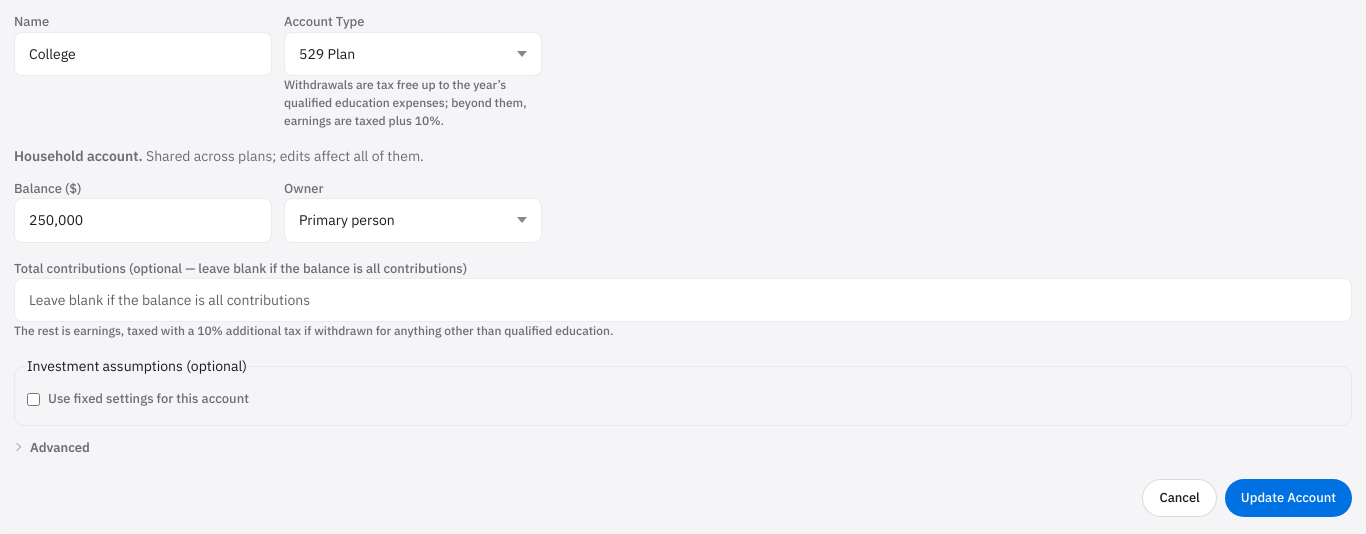
Scenario: states the tax assumption only for 529 and other accounts
Select "Other" in the dropdown labelled "Account Type": (413, 54) top-left (284, 32), bottom-right (542, 76)
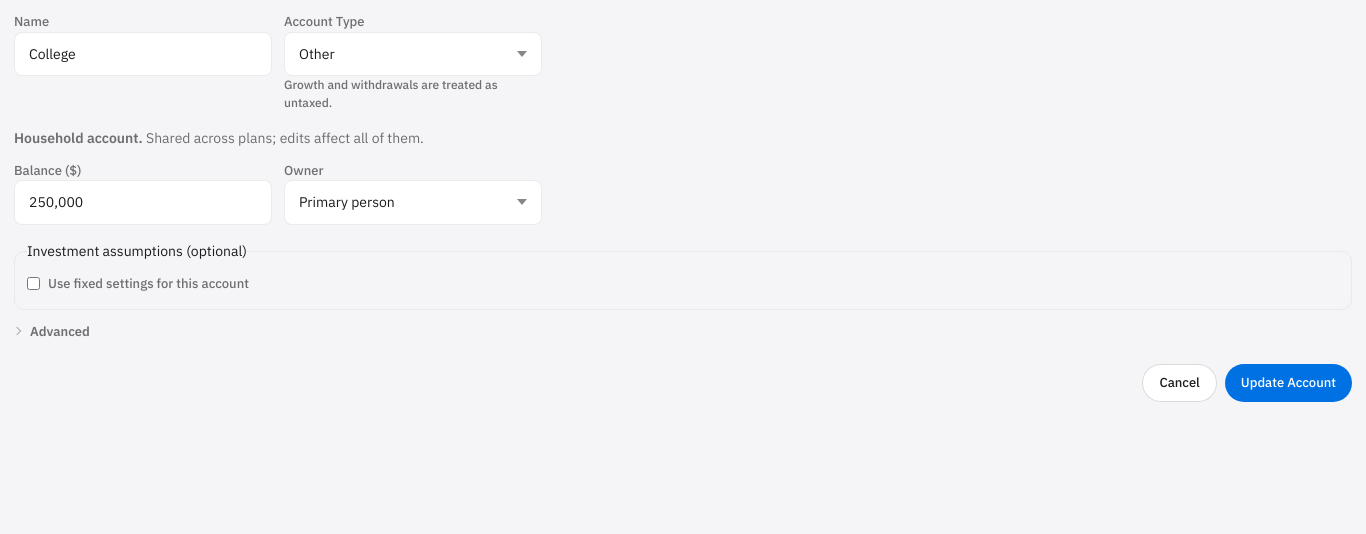
Now the text "Growth and withdrawals are treated as untaxed." is shown, box top-left (284, 77), bottom-right (498, 110)
Select "HSA" in the dropdown labelled "Account Type Growth and withdrawals are treated as untaxed.": (413, 54) top-left (284, 32), bottom-right (542, 76)
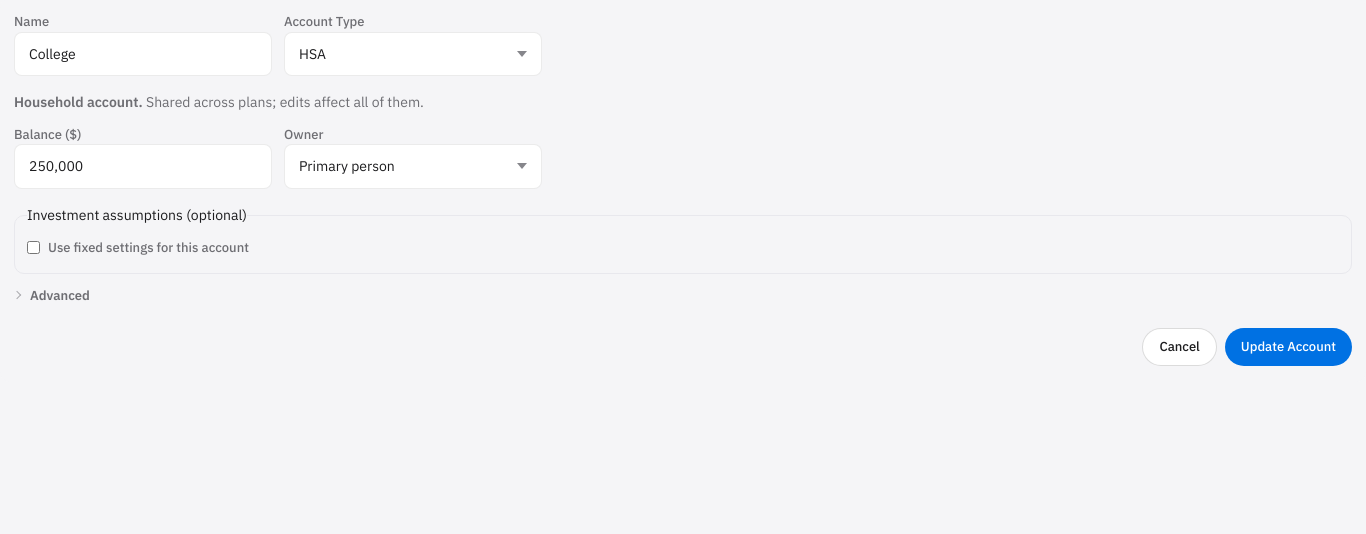
Now the text "treated as" is gone
